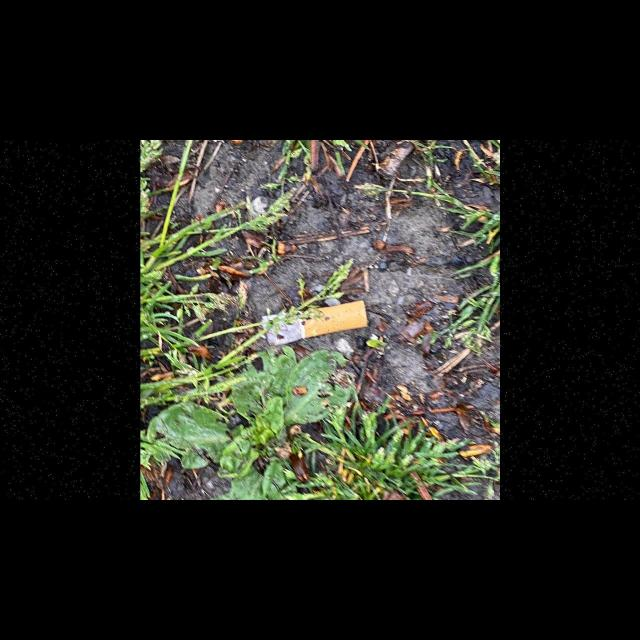cigarette: (260, 299, 368, 346)
